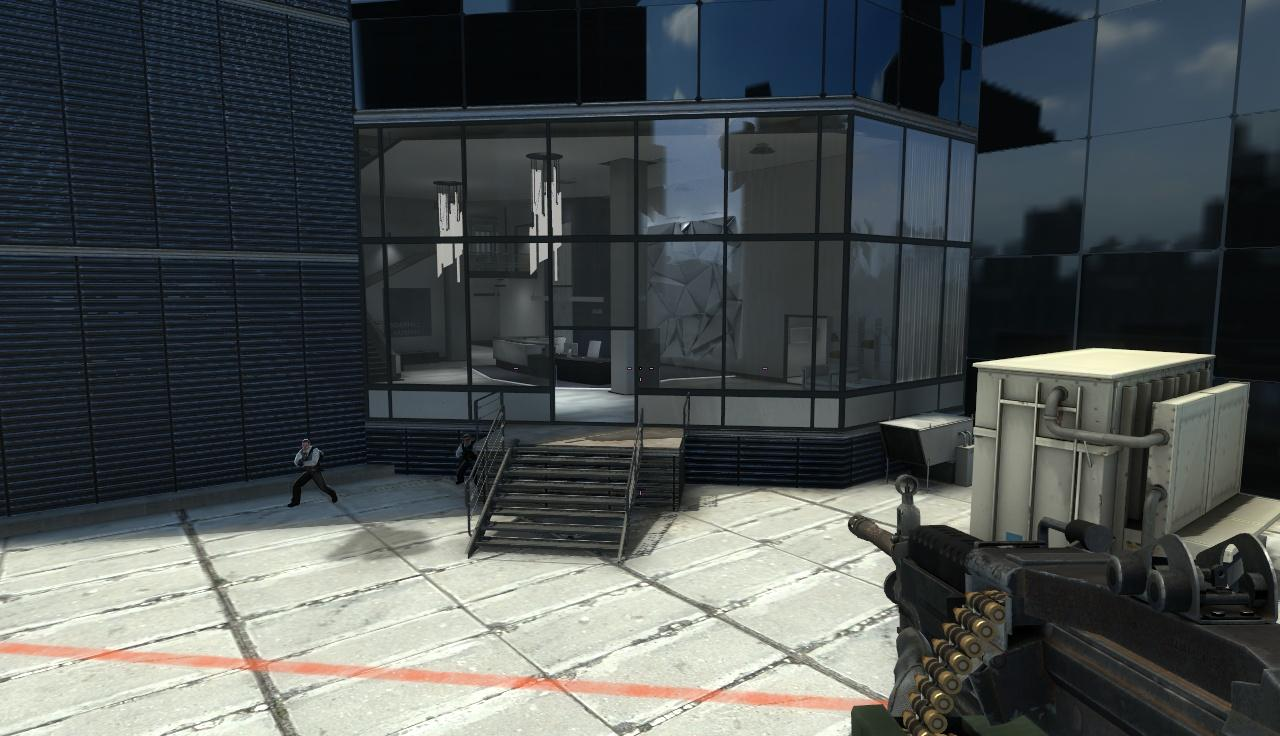rifle: (846, 476, 1280, 736)
tt: (294, 439, 325, 502), (456, 434, 477, 485)
tthead: (301, 439, 310, 450), (463, 434, 470, 445)
